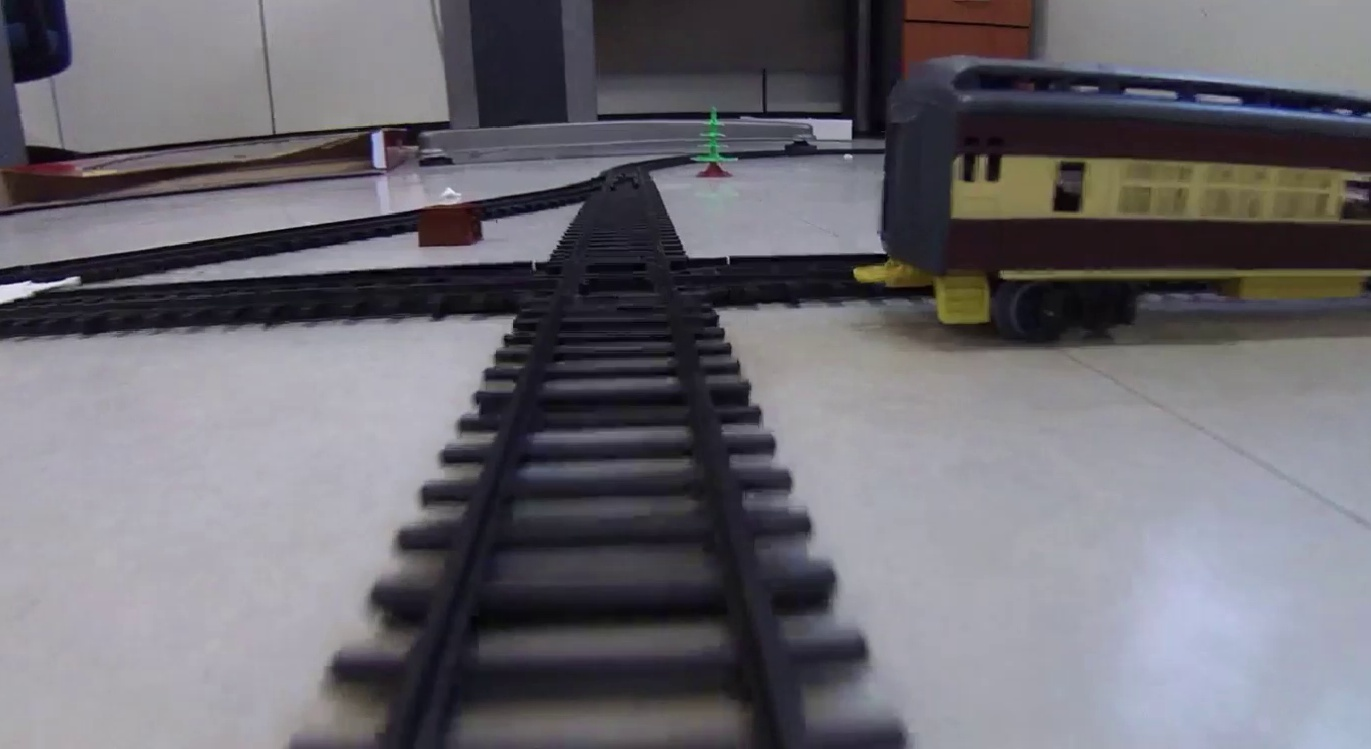box: (417, 207, 484, 243)
tree: (687, 106, 744, 181)
